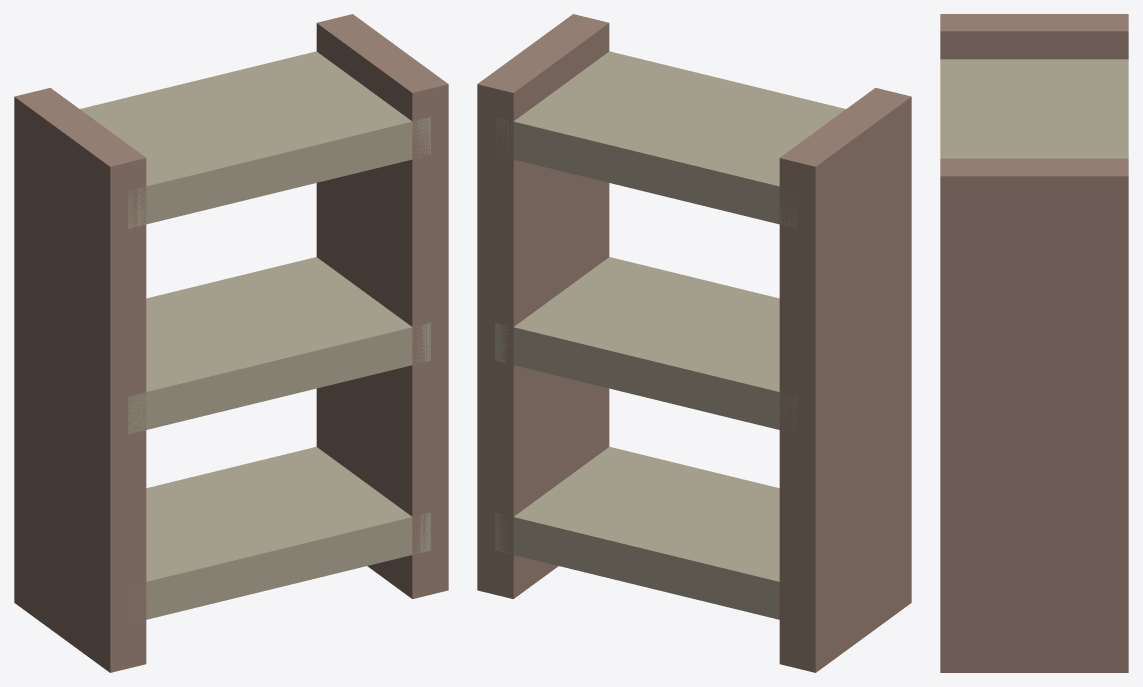
File: furn_shelf.glb
3 renders of one model, left to right at view 1: azimuth 30°, elevation 25°; view 2: azimuth 150°, elevation 25°; view 3: azimuth 270°, elevation 25°, orthographic.
Parts seen in each view (by area): view 1: furn_shelf; view 2: furn_shelf; view 3: furn_shelf.
Boxes of the visible parts, box(x1,y1,x2,y2) form: furn_shelf: box(14, 14, 448, 672); furn_shelf: box(477, 14, 911, 672); furn_shelf: box(940, 14, 1128, 672).
Bounding box in the file's own units: 1.12 × 1.6 × 0.55.
